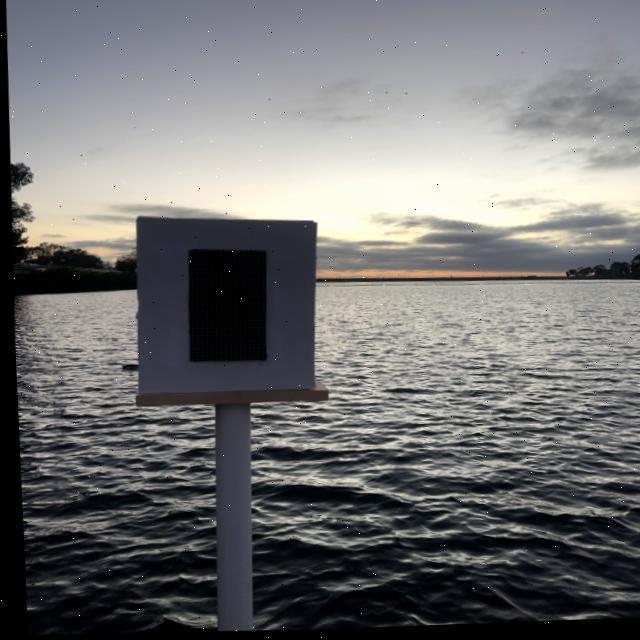led: (147, 219, 303, 397)
